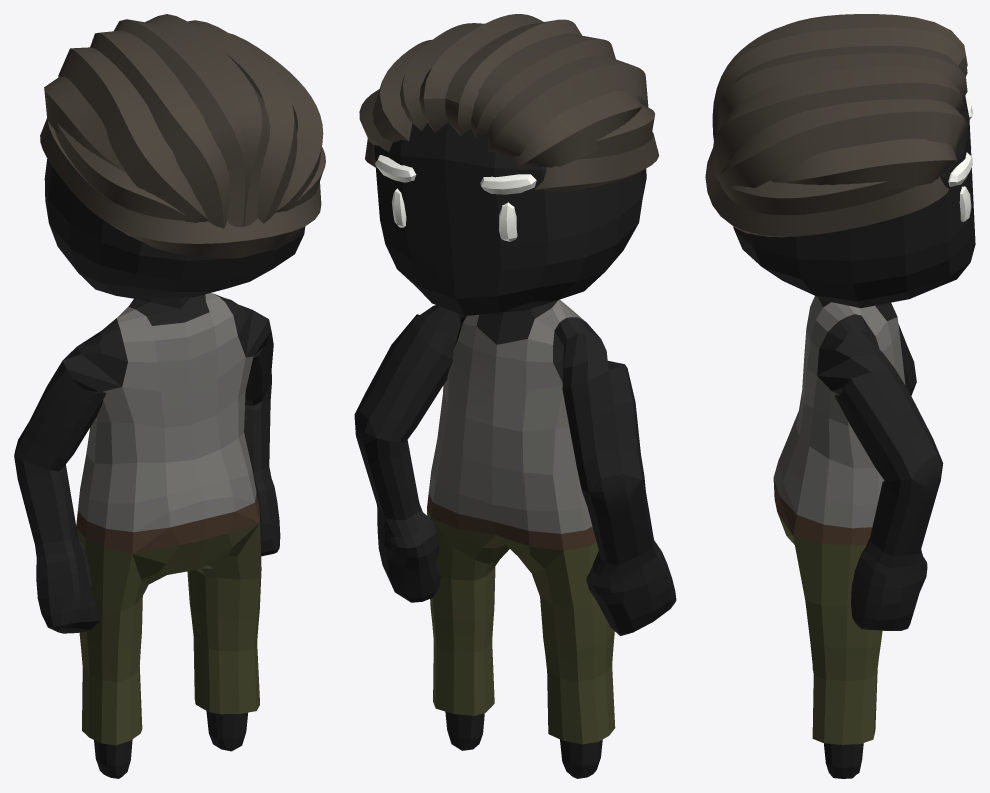
The model's file is Moun_Casual3_Male_Stand.fbx.
3 renders of one model, left to right at view 1: azimuth 30°, elevation 25°; view 2: azimuth 150°, elevation 25°; view 3: azimuth 270°, elevation 25°, orthographic. The views are drawn at different scales.
Parts seen in each view (by area): view 1: Moun_Casual3_Male_Stand; view 2: Moun_Casual3_Male_Stand; view 3: Moun_Casual3_Male_Stand.
Boxes of the visible parts, x1,y1,x2,y2 form: Moun_Casual3_Male_Stand: (14,14,325,778); Moun_Casual3_Male_Stand: (354,14,676,778); Moun_Casual3_Male_Stand: (705,14,975,778).
Bounding box in the file's own units: 0.6622 × 1.67 × 0.5654.
